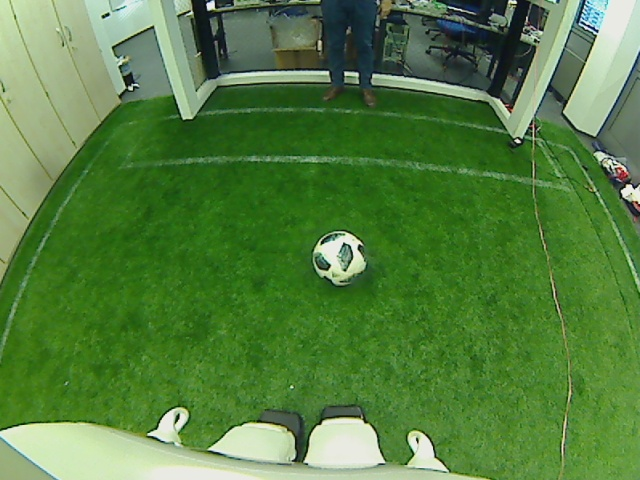ball: (310, 226, 367, 285)
